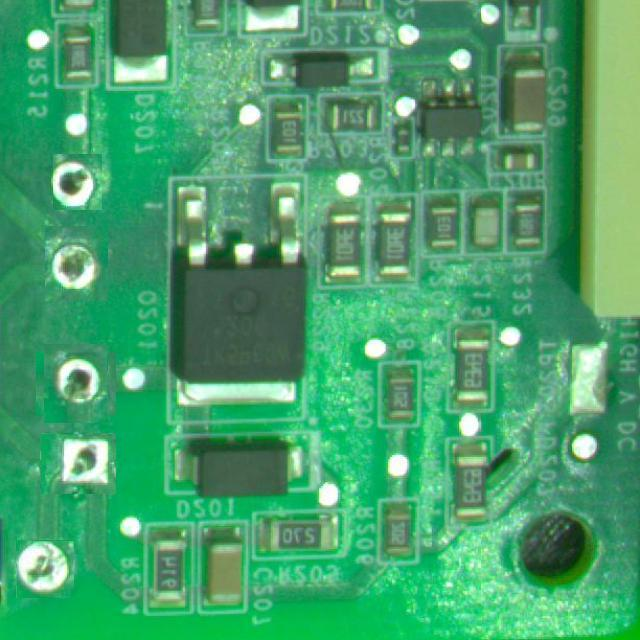lack_of_part: (40, 348, 112, 420), (42, 229, 111, 298), (40, 433, 116, 494), (16, 540, 74, 598), (54, 154, 104, 210)
